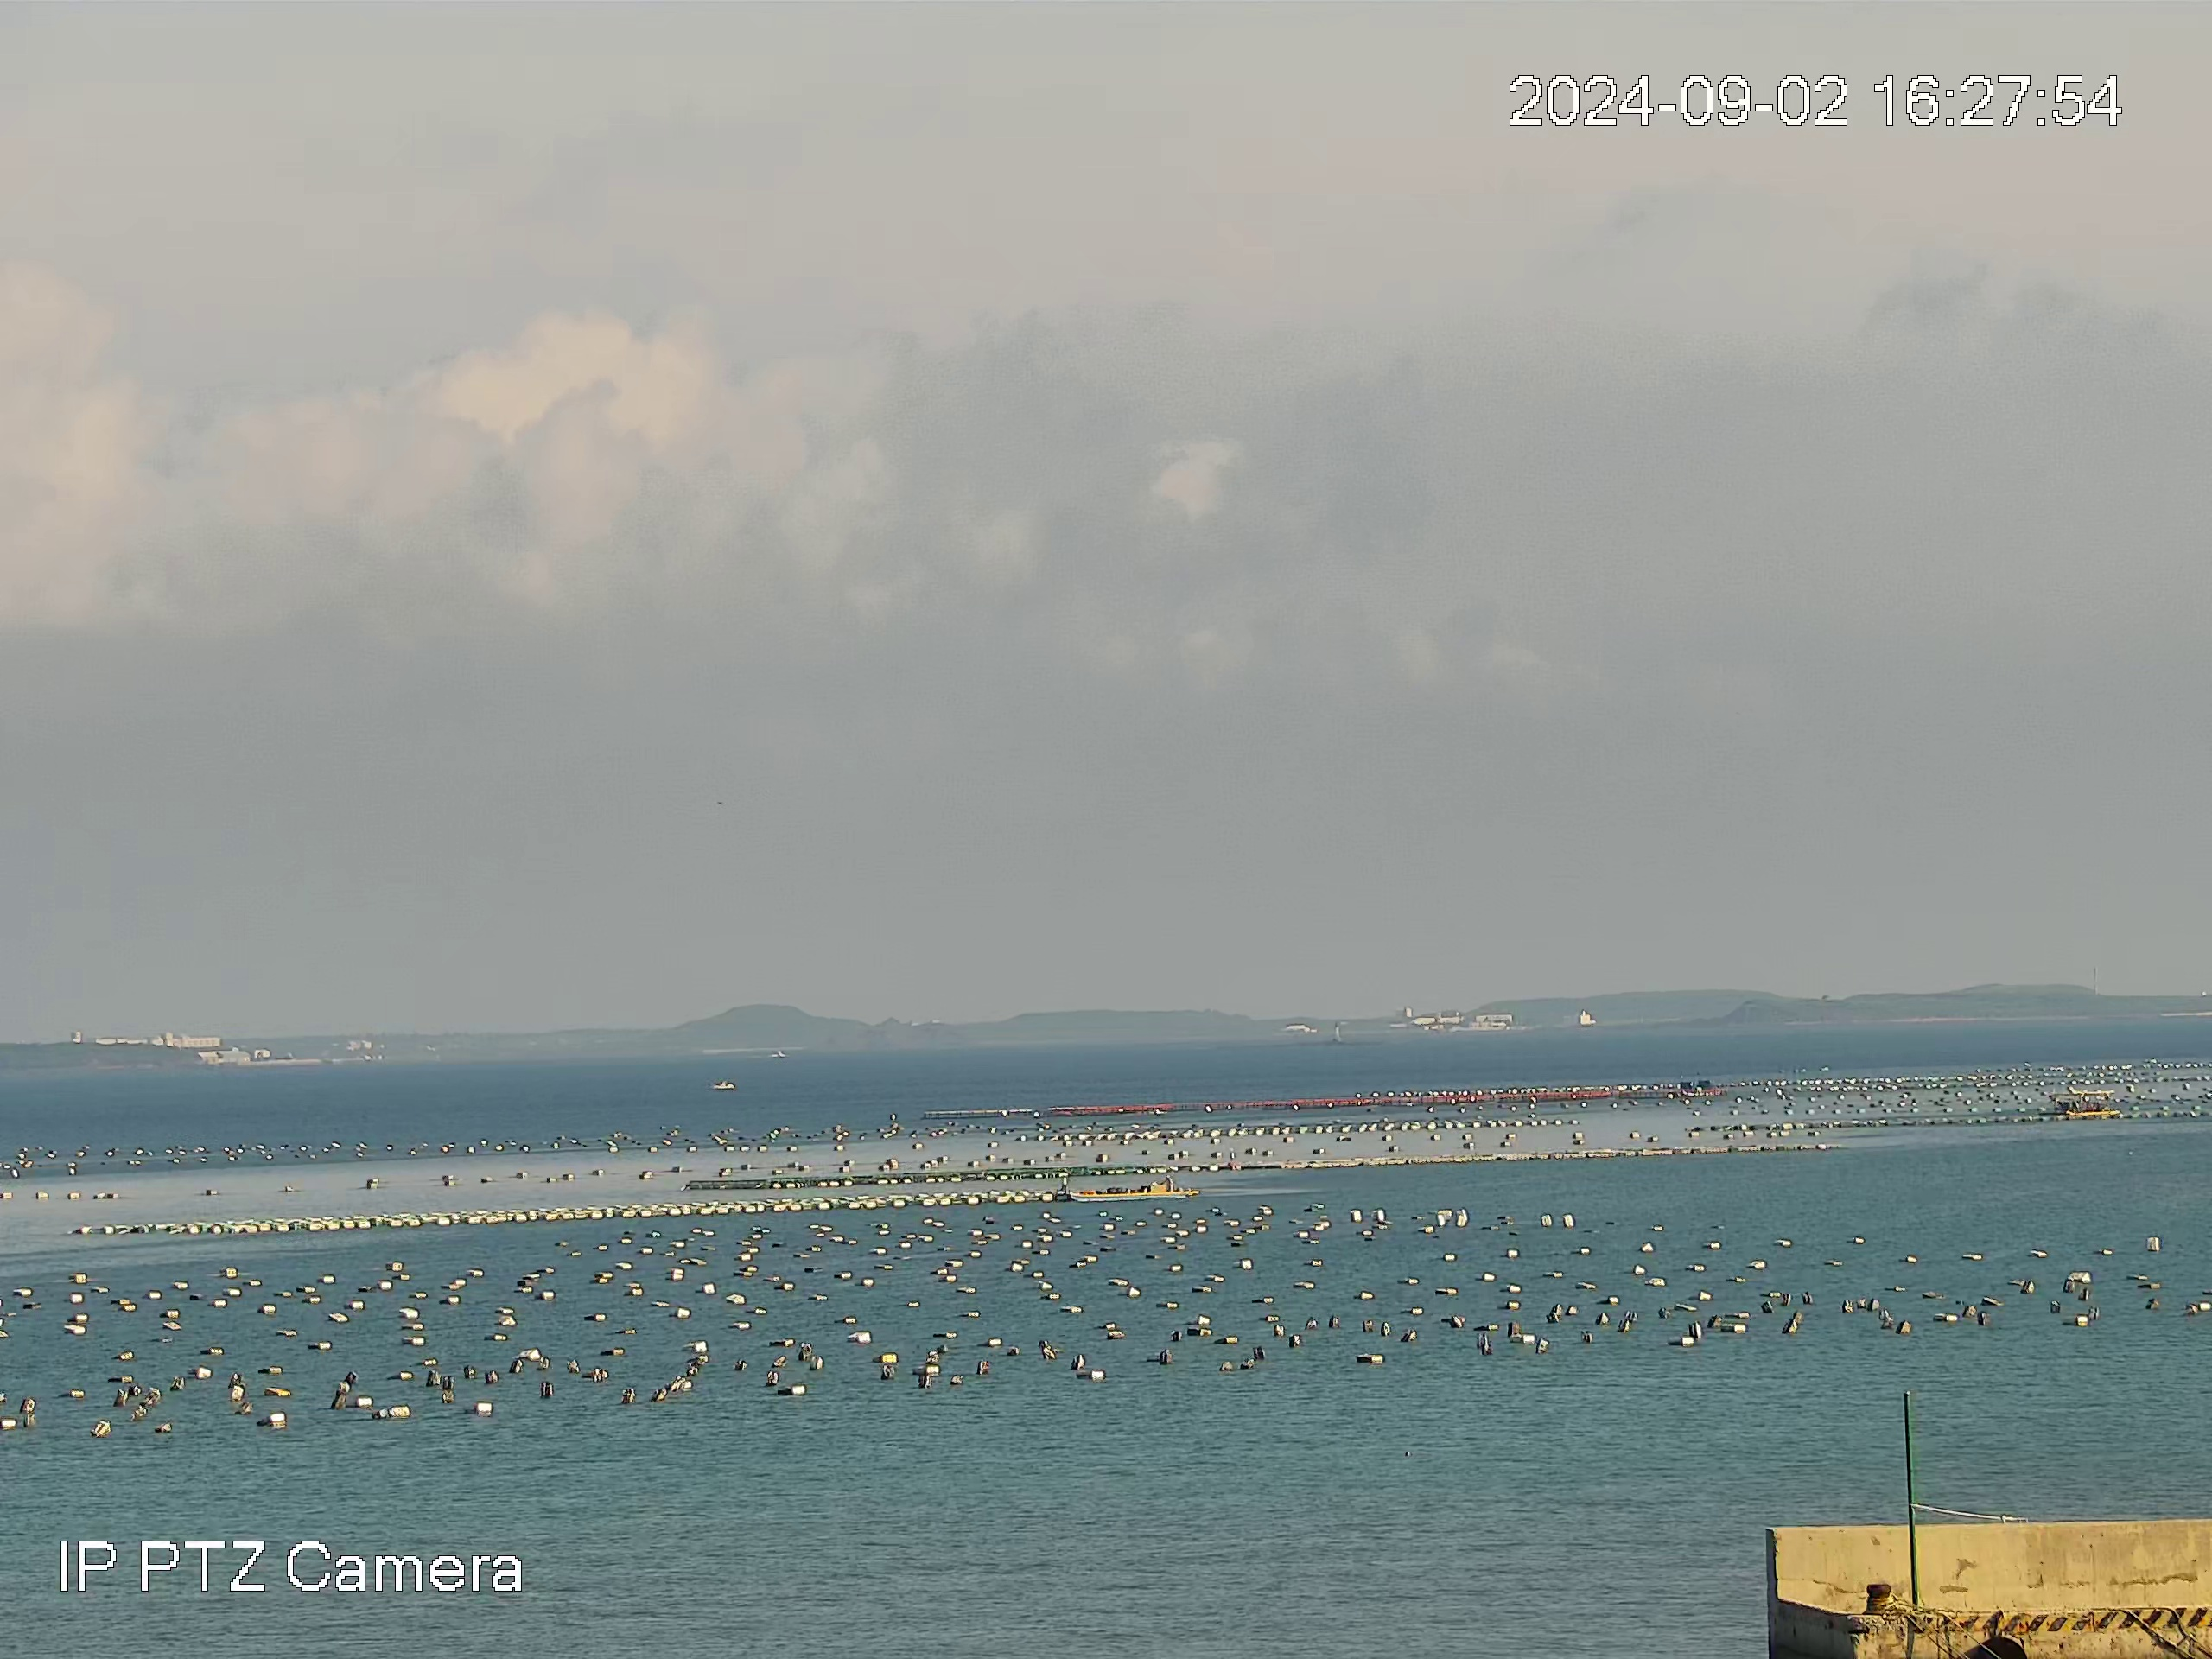boat: (1068, 1175, 1202, 1201), (2048, 1089, 2121, 1121), (709, 1079, 735, 1091)
